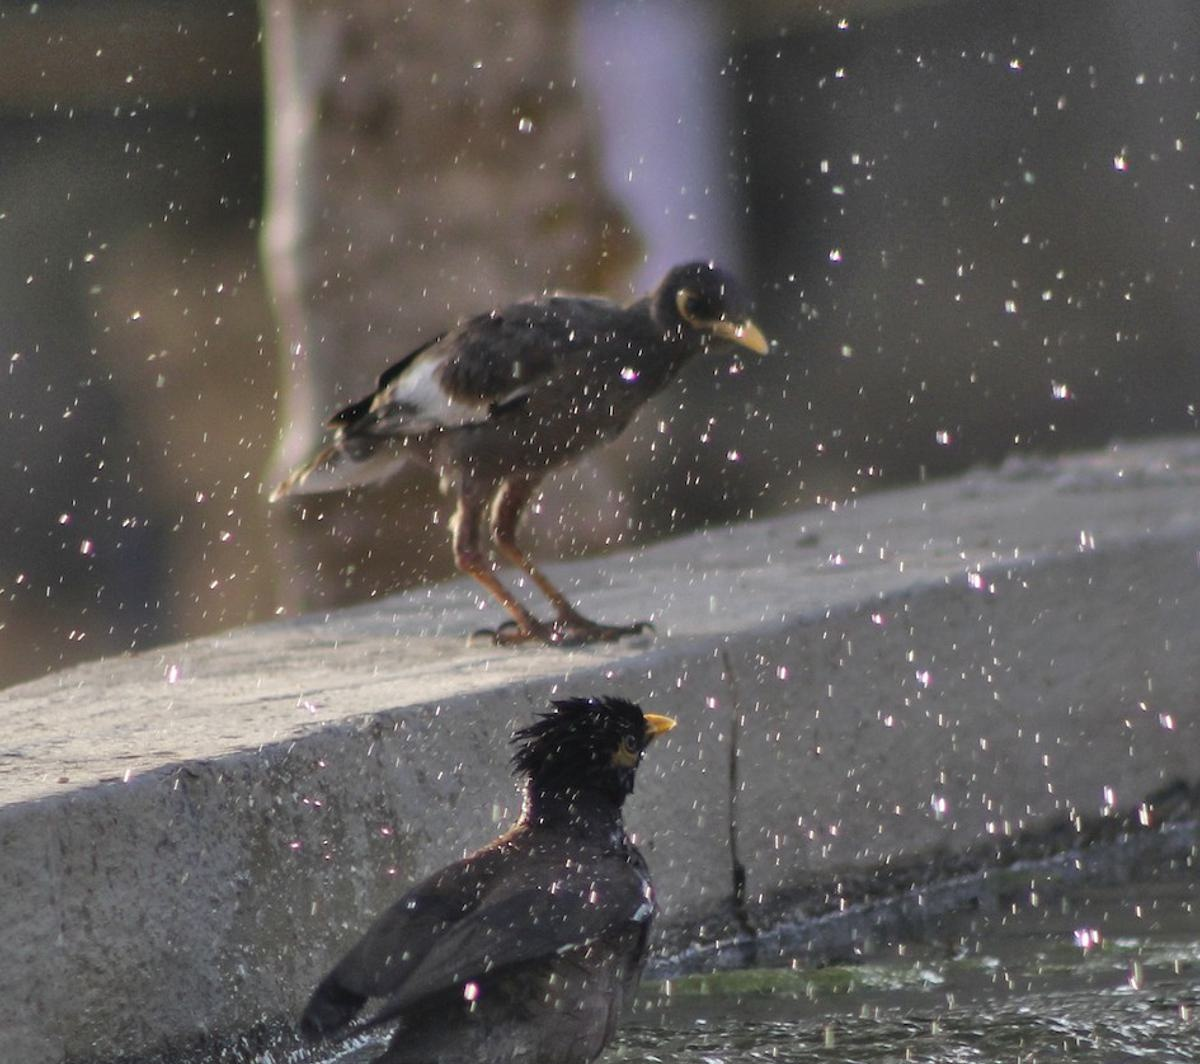myna: (323, 193, 798, 577)
